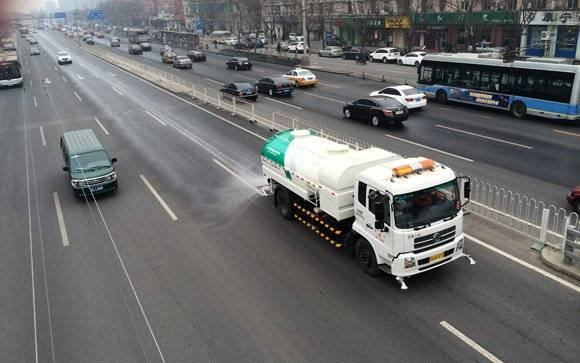bus: (411, 49, 580, 127), (208, 30, 232, 44), (20, 27, 30, 38)
car: (59, 128, 121, 198), (341, 94, 409, 129), (369, 84, 428, 112), (218, 80, 258, 105), (1, 51, 26, 90), (254, 76, 295, 98), (281, 67, 319, 88), (397, 50, 430, 68), (368, 46, 400, 64), (225, 56, 253, 70), (343, 47, 371, 60), (172, 55, 194, 70), (186, 49, 208, 63), (287, 41, 309, 55), (319, 46, 343, 58), (162, 51, 179, 64), (57, 51, 73, 64), (127, 44, 143, 54), (159, 45, 173, 56), (29, 45, 41, 57), (109, 37, 121, 48), (140, 42, 153, 52), (225, 36, 239, 45), (25, 34, 36, 43), (30, 38, 39, 45)
